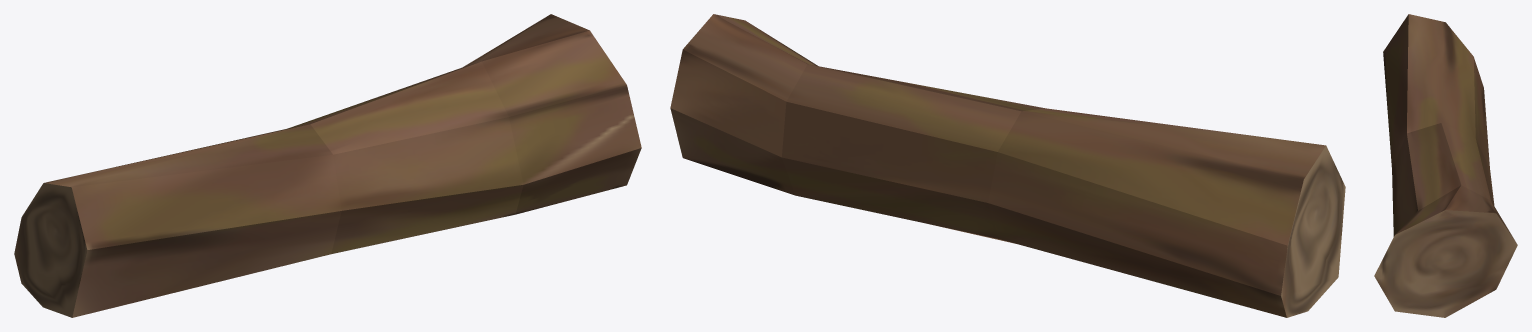
The model's file is wood-block-06.obj.
The picture shows the model from 3 angles, left to right: view 1: azimuth 30°, elevation 25°; view 2: azimuth 150°, elevation 25°; view 3: azimuth 270°, elevation 25°; orthographic projection. The views are drawn at different scales.
Visible parts, largest first — view 1: wood-block-06; view 2: wood-block-06; view 3: wood-block-06.
Boxes of the visible parts, bbox=[...] form: wood-block-06: bbox=[14, 14, 641, 317]; wood-block-06: bbox=[670, 14, 1345, 317]; wood-block-06: bbox=[1374, 14, 1517, 317].
Size of the model in its own units: 1.48 by 0.3804 by 0.4368.
